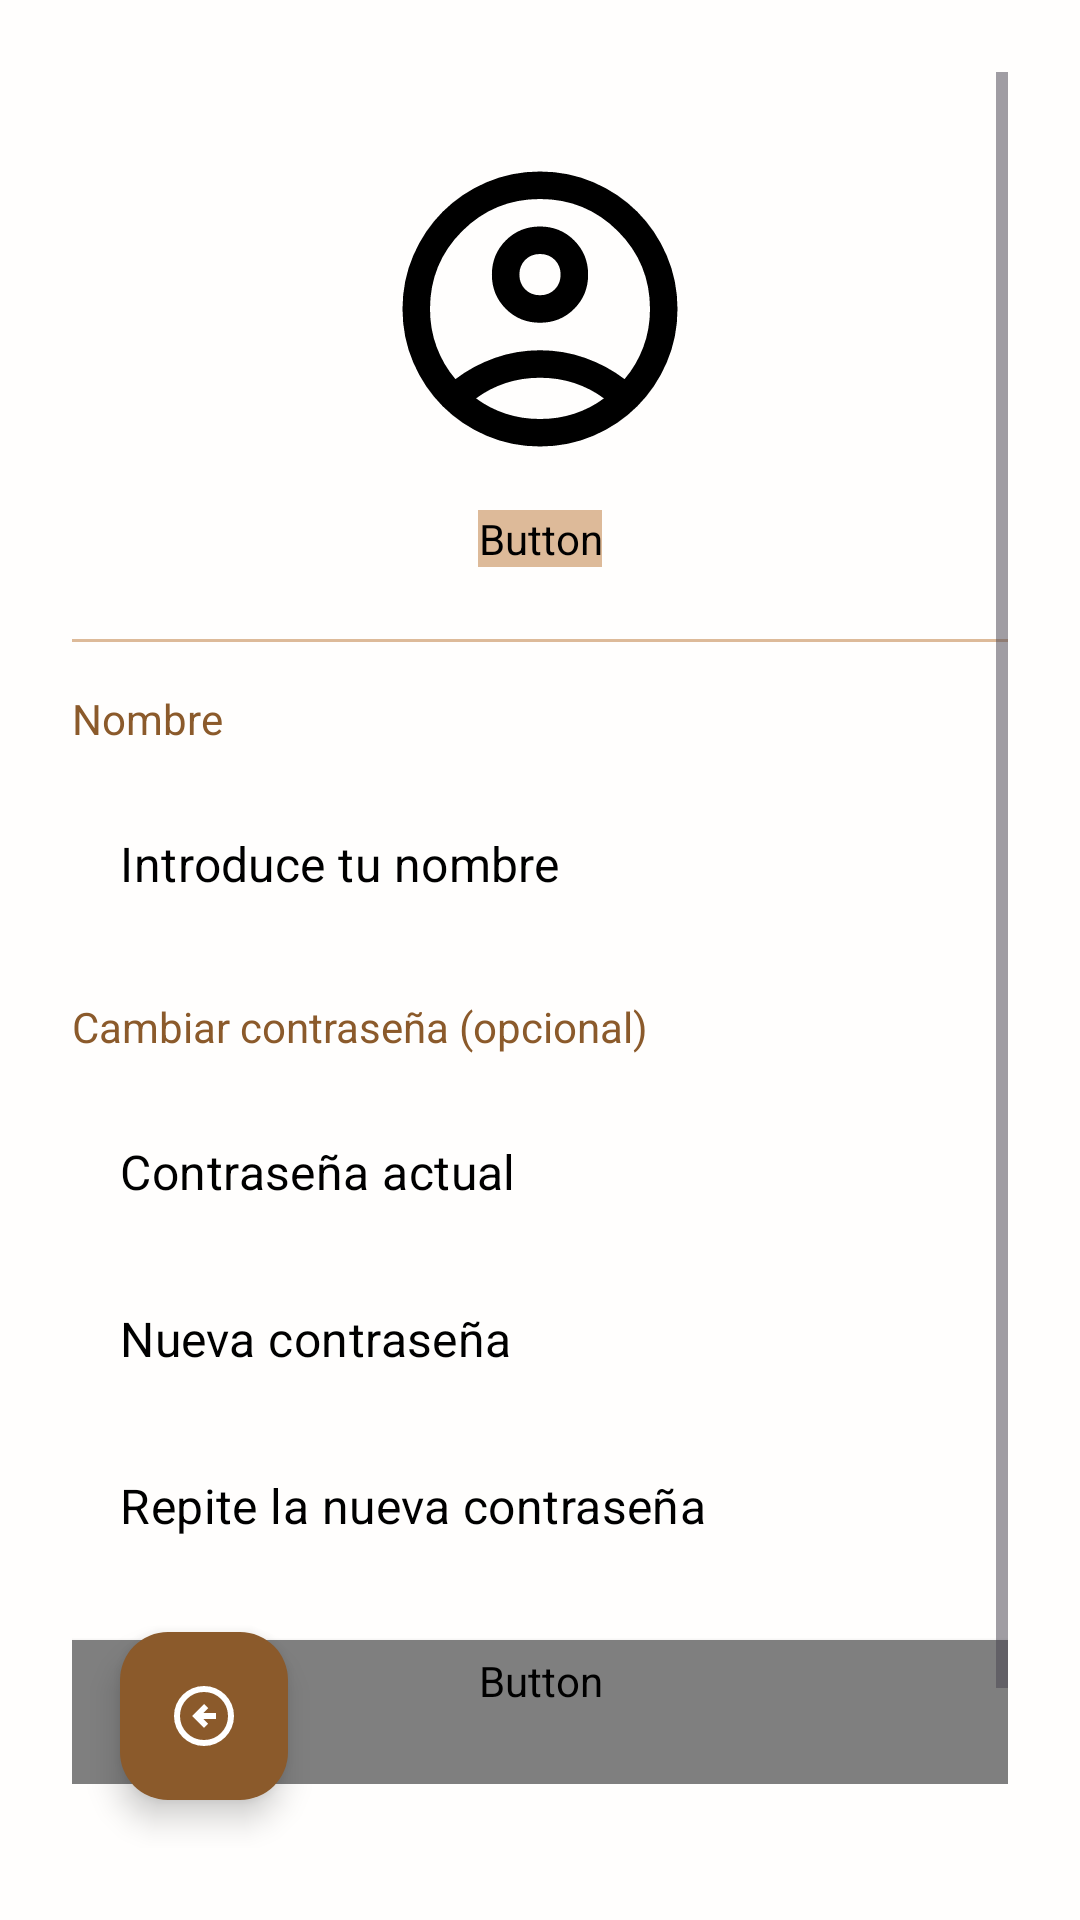

Where to tap for icons on this 1080px x 1920px app screen, as point (x, y):
Atras: point (204, 1716)
user: point (540, 309)
